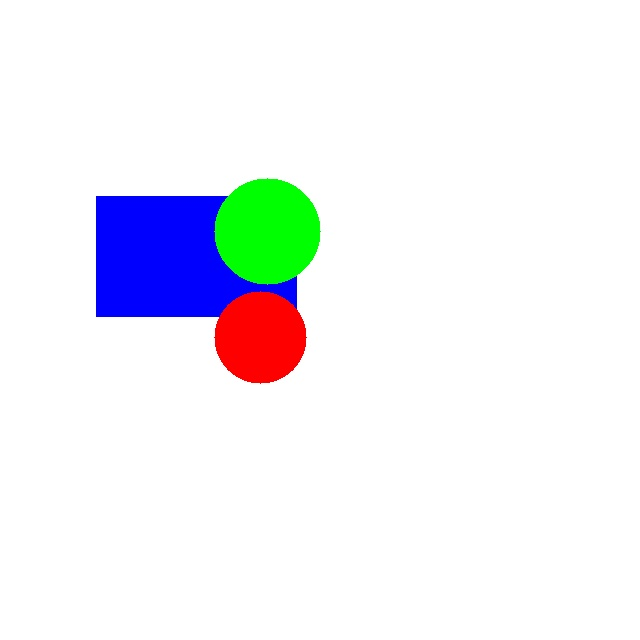cartao: (96, 196, 296, 316)
rosca_externa: (214, 178, 320, 284)
rosca_interna: (214, 291, 306, 383)
